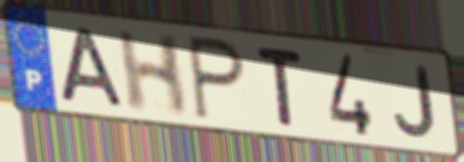4: (328, 53, 375, 138)
A: (58, 24, 128, 111)
H: (114, 28, 190, 119)
J: (391, 63, 439, 141)
P: (185, 32, 248, 125)
T: (253, 43, 306, 130)
